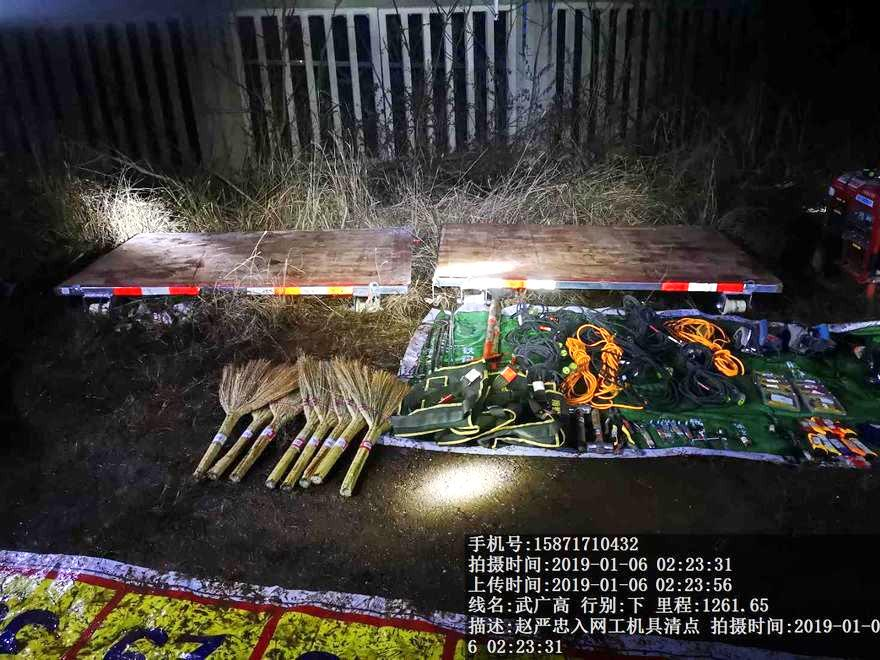DX: (672, 312, 744, 381), (562, 331, 600, 405)
GFJ: (792, 314, 867, 391)
GJB: (392, 363, 491, 441)
SB: (190, 355, 297, 472), (336, 356, 399, 495)
